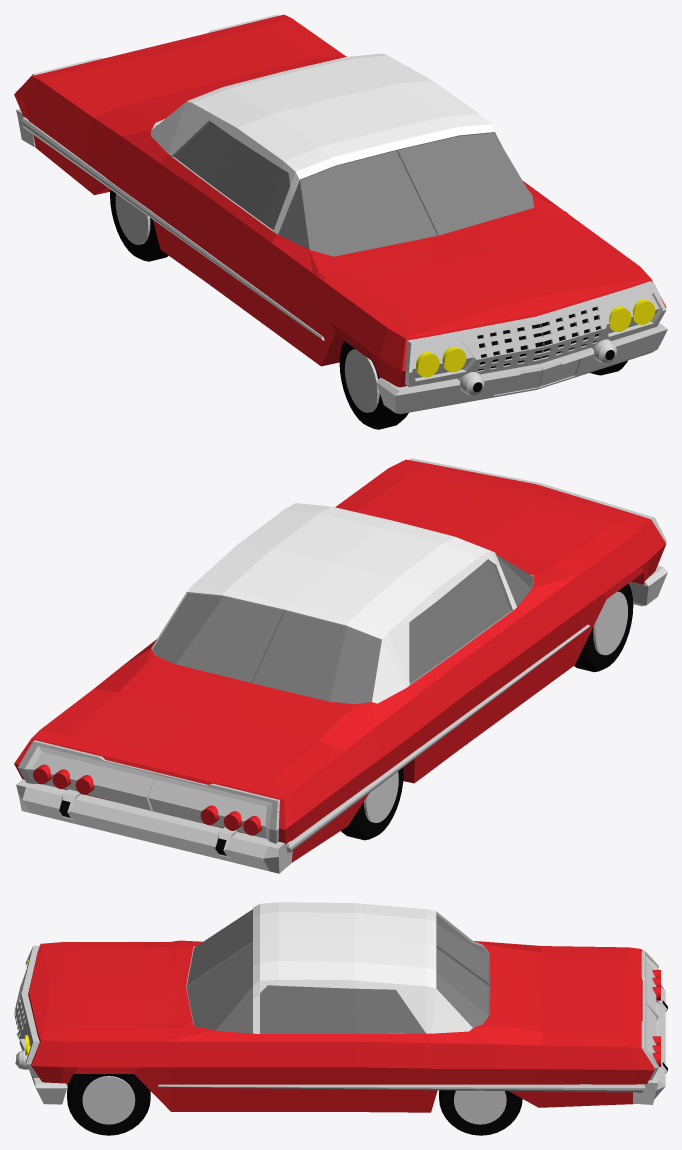
The model's file is Пробка Авто 1.fbx.
3 views of the same model, one above another, from view 1: azimuth 30°, elevation 25°; view 2: azimuth 150°, elevation 25°; view 3: azimuth 270°, elevation 25° (orthographic). The views are drawn at different scales.
Parts seen in each view (by area): view 1: Cube; view 2: Cube; view 3: Cube.
Part boxes in pixels (x1=…): Cube: x1=14, y1=14, x2=667, y2=429; Cube: x1=14, y1=458, x2=667, y2=873; Cube: x1=14, y1=902, x2=667, y2=1135.
Size of the model in its own units: 131 by 86.69 by 335.
